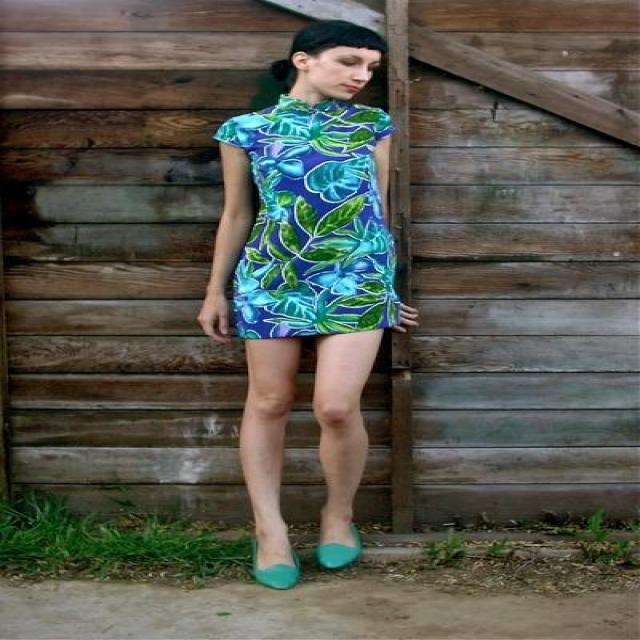dress: (218, 94, 466, 338)
shoe: (254, 540, 358, 589)
